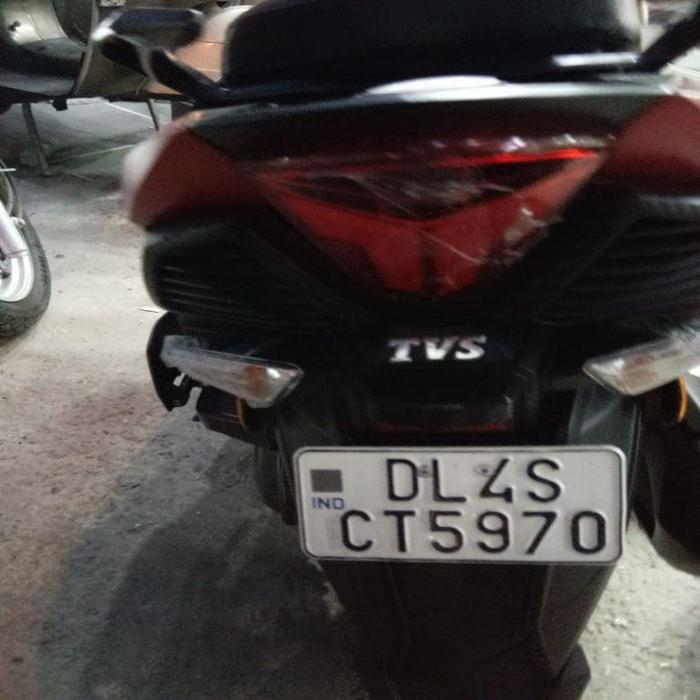n: (289, 443, 627, 569)
